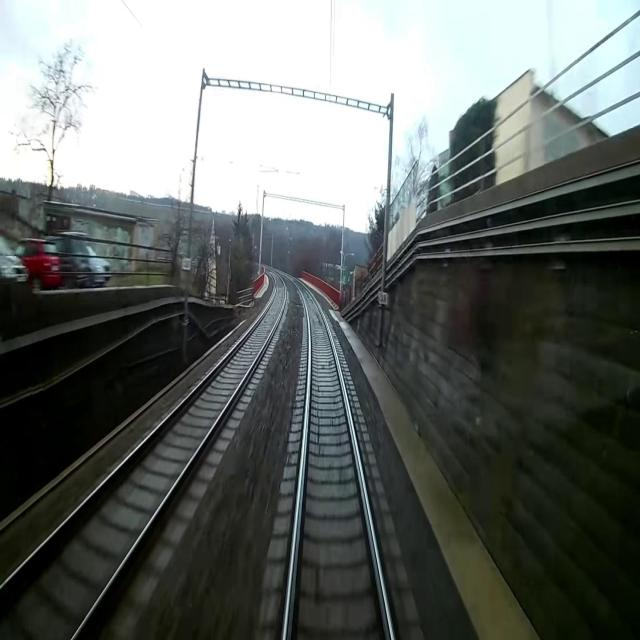rail-track: (0, 272, 284, 639), (287, 279, 390, 639)
